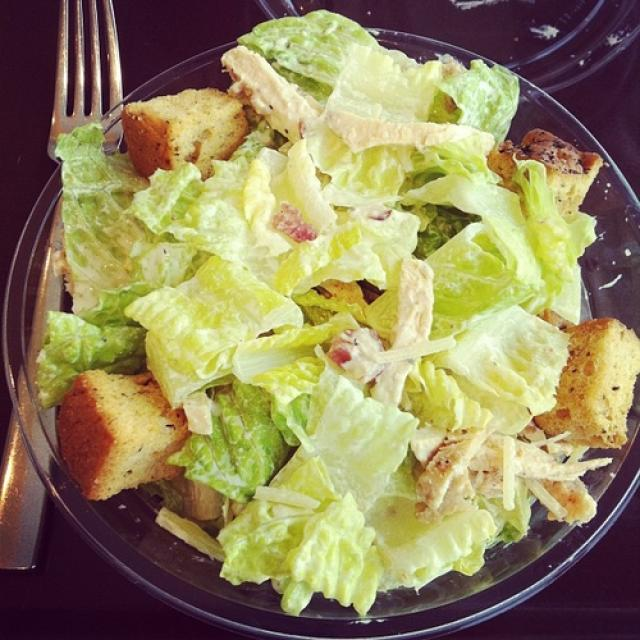蔬菜料理: (26, 18, 624, 623)
